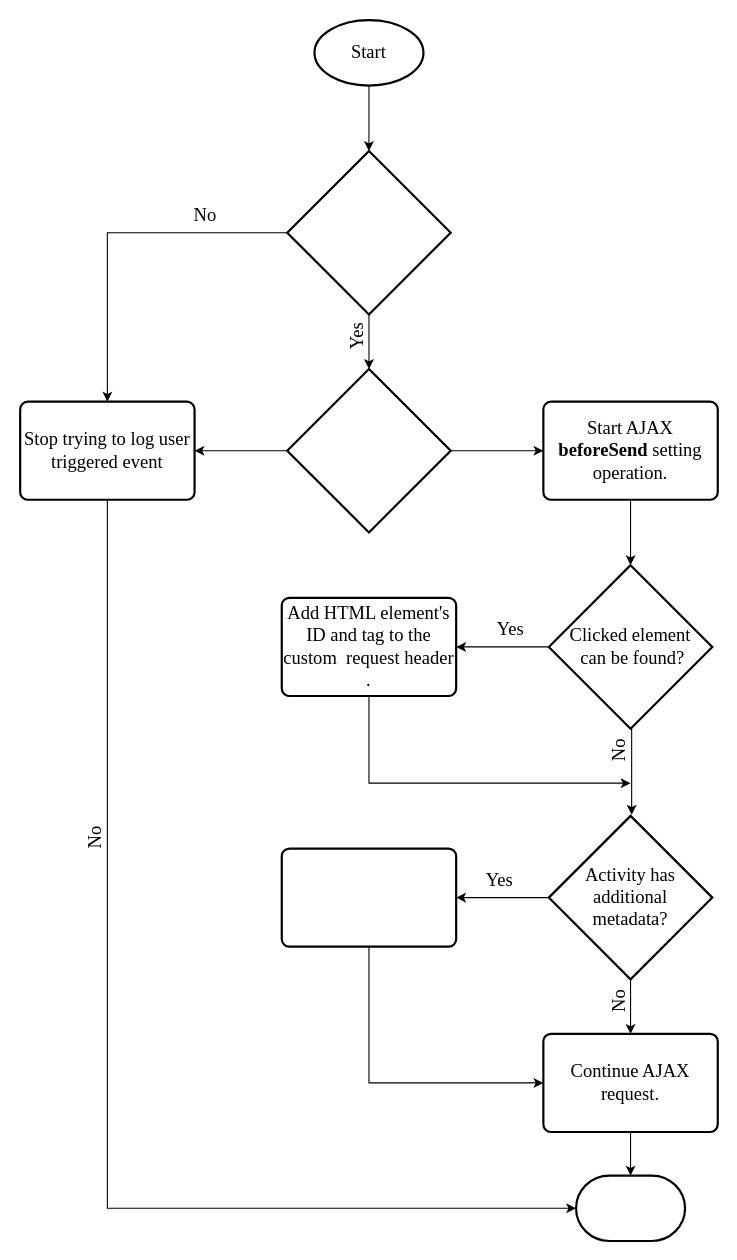
The diagram is 737 pixels wide and 1260 high, and some of its shapes have lost their labels. The centre of each missing label's shape, as x and y in pixels:
Add parameters to the custom user activity request header.: (x=368, y=897)
End: (x=630, y=1208)
Interaction is a request action?: (x=368, y=450)
User inter- acted with the system's UI?: (x=368, y=232)
